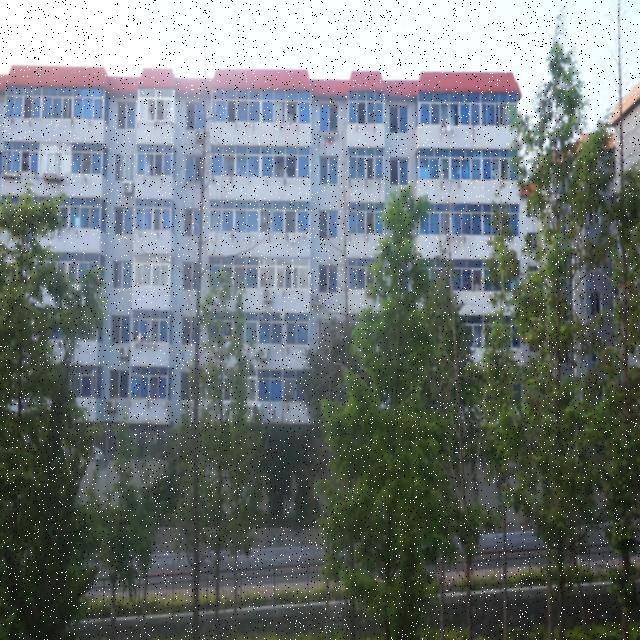UAV: (324, 135, 338, 145)
